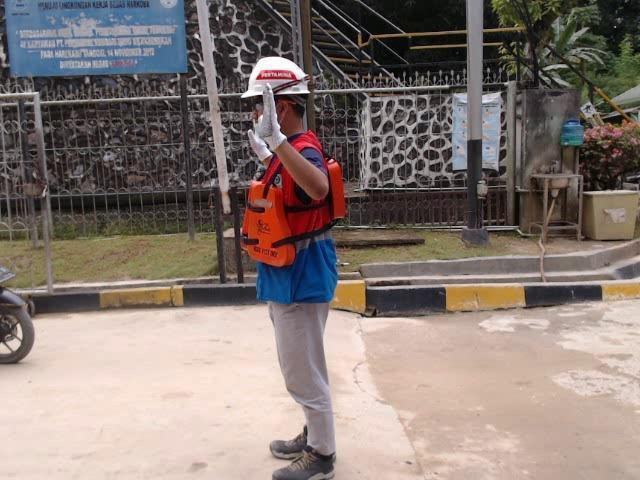vest: (239, 157, 347, 268)
